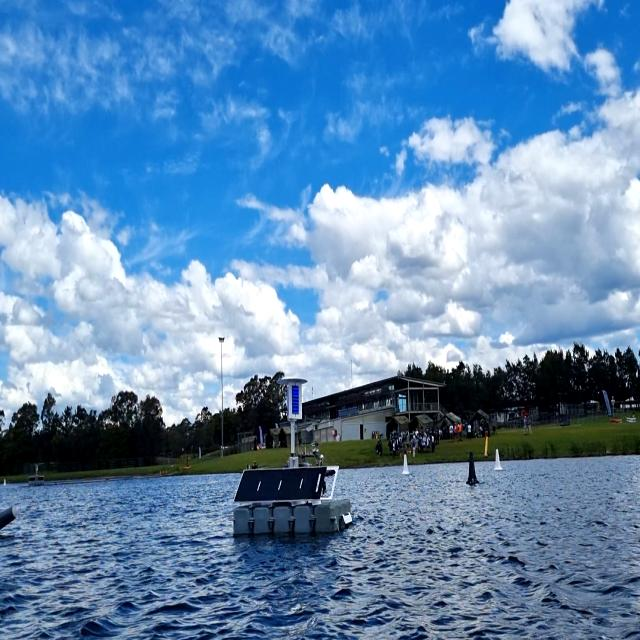led: (290, 382, 302, 418)
